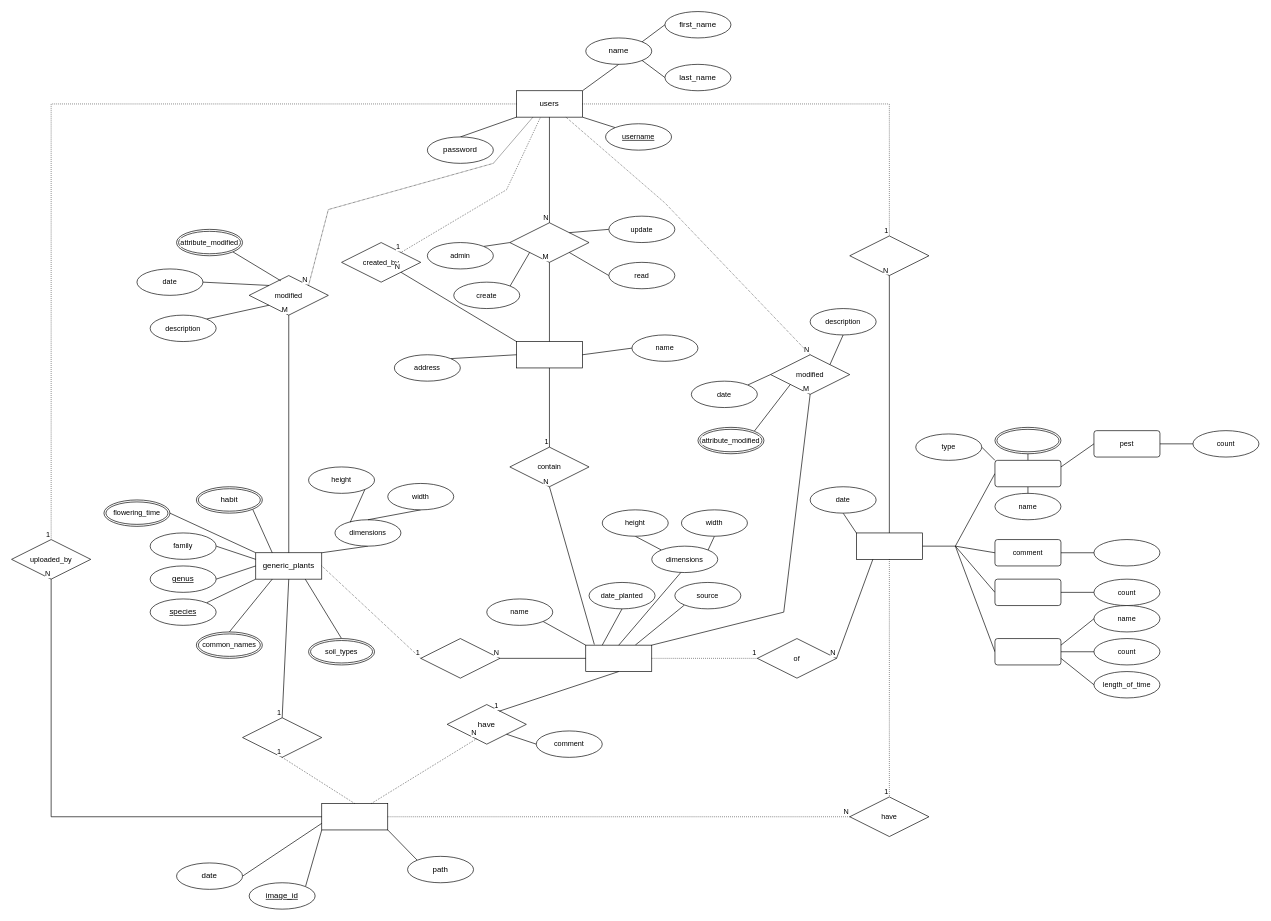
This 1271x921 diagram has some shape labels left out. The shapes that lost their labels are listed below. From the top down, each one's centre as x and y in pixels, then its label:
point (549, 242): have_permissions
point (889, 255): made_by
point (549, 354): spaces
point (1027, 440): spread
point (1027, 473): pest/disease
point (889, 545): observations
point (1126, 552): text
point (1027, 592): flowering
point (460, 658): is a
point (618, 658): actual_plants
point (1027, 651): wildlife
point (282, 737): has a
point (354, 816): images
